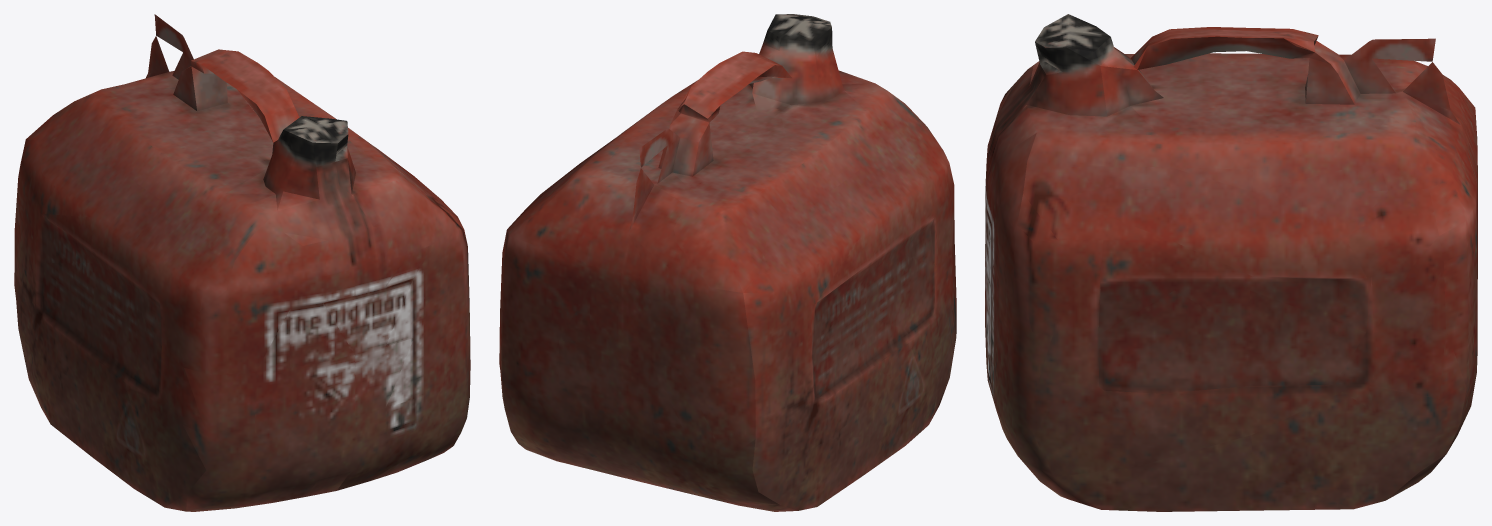
File: jerrycan_plastic.glb
The picture shows the model from 3 angles, left to right: view 1: azimuth 30°, elevation 25°; view 2: azimuth 150°, elevation 25°; view 3: azimuth 270°, elevation 25°; orthographic projection. The views are drawn at different scales.
Parts seen in each view (by area): view 1: mesh; view 2: mesh; view 3: mesh.
Part boxes in pixels (x1=…): mesh: x1=14, y1=14, x2=470, y2=511; mesh: x1=499, y1=14, x2=956, y2=511; mesh: x1=985, y1=14, x2=1477, y2=511.
Size of the model in its own units: 0.2721 by 0.3184 by 0.3462.
Materials: 1 (1 with a texture image).
